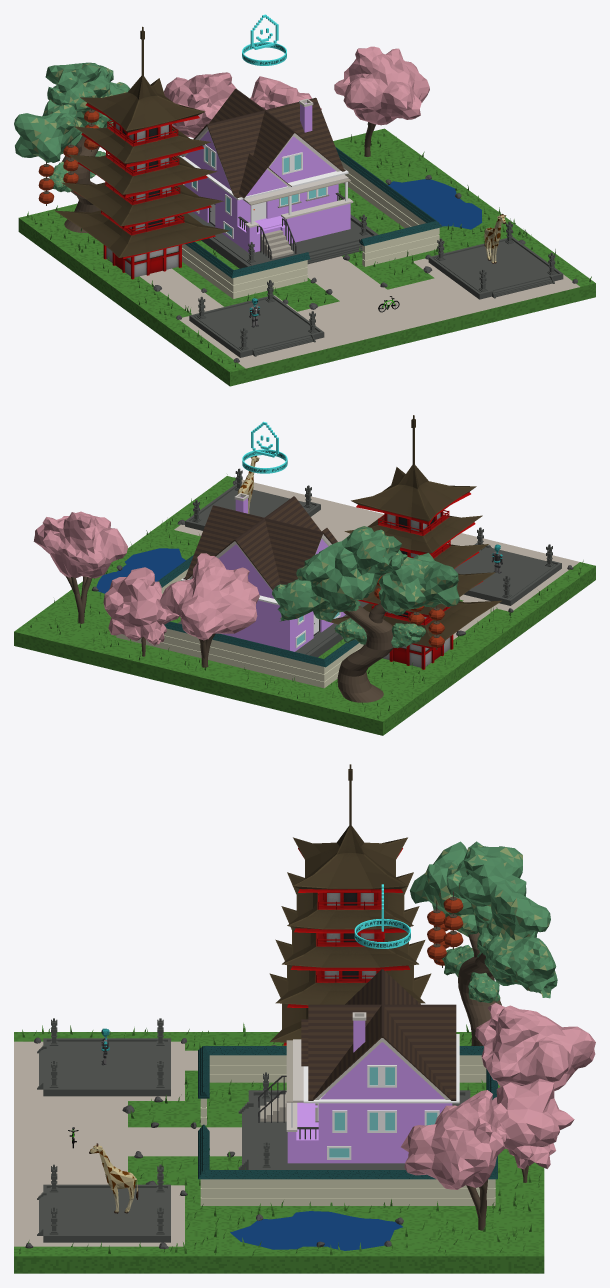
3 views of the same model, one above another, from view 1: azimuth 30°, elevation 25°; view 2: azimuth 150°, elevation 25°; view 3: azimuth 270°, elevation 25° (orthographic). The views are drawn at different scales.
Parts seen in each view (by area): view 1: Cube.005, Cube.391, TYPE_PREMIUM, ANIMAL_JIRAFA; view 2: Cube.005, Cube.391, TYPE_PREMIUM; view 3: Cube.005, Cube.391, ANIMAL_JIRAFA, TYPE_PREMIUM.
Boxes of the visible parts, x1=… form: Cube.005: x1=14, y1=26, x2=595, y2=386; Cube.391: x1=178, y1=88, x2=353, y2=259; TYPE_PREMIUM: x1=242, y1=14, x2=286, y2=65; ANIMAL_JIRAFA: x1=484, y1=214, x2=506, y2=263; Cube.005: x1=14, y1=415, x2=595, y2=735; Cube.391: x1=181, y1=493, x2=345, y2=651; TYPE_PREMIUM: x1=242, y1=421, x2=287, y2=473; Cube.005: x1=14, y1=764, x2=595, y2=1273; Cube.391: x1=258, y1=969, x2=459, y2=1163; ANIMAL_JIRAFA: x1=89, y1=1143, x2=138, y2=1213; TYPE_PREMIUM: x1=354, y1=884, x2=410, y2=948.
Bounding box in the file's own units: 4528 × 2668 × 4389.
48 materials, 6 textured.
